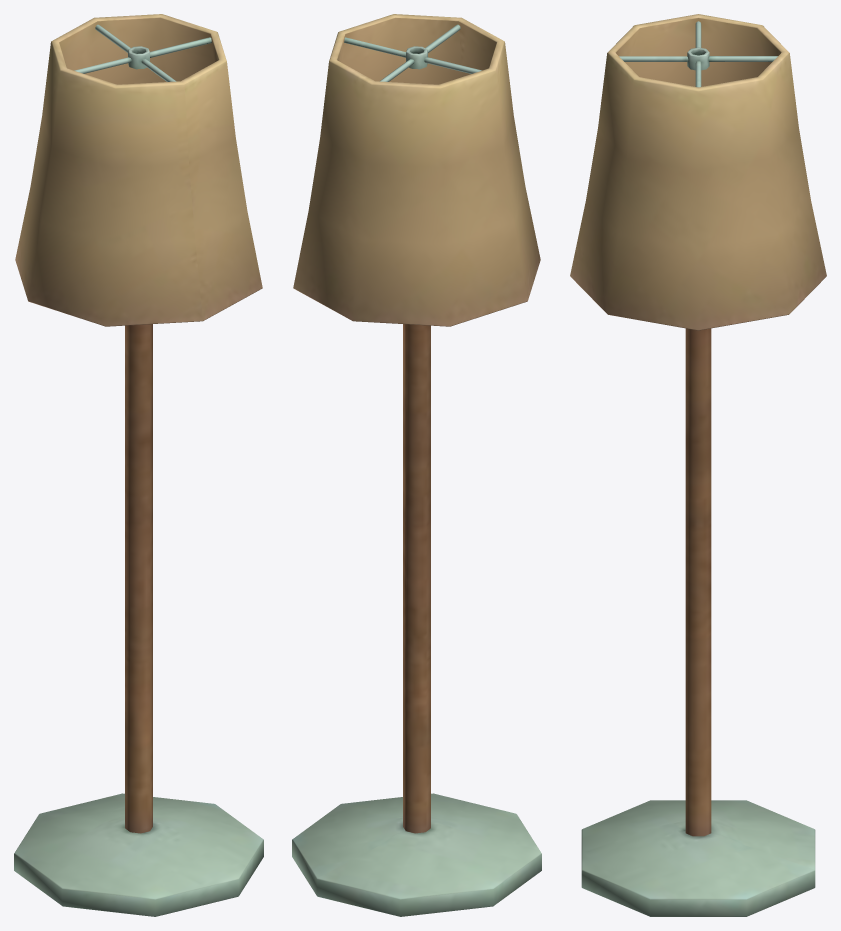
Rendered from floorLamp.glb.
3 views of the same model, side by side, from view 1: azimuth 30°, elevation 25°; view 2: azimuth 150°, elevation 25°; view 3: azimuth 270°, elevation 25° (orthographic).
Parts seen in each view (by area): view 1: defaultMaterial (×3); view 2: defaultMaterial (×3); view 3: defaultMaterial (×3).
Part boxes in pixels (x1,y1,x2,y2): defaultMaterial (×3): (14, 14, 263, 916); defaultMaterial (×3): (292, 14, 541, 916); defaultMaterial (×3): (570, 14, 826, 916).
Size of the model in its own units: 0.5706 by 2 by 0.5706.
Materials: 4 (4 with a texture image).
